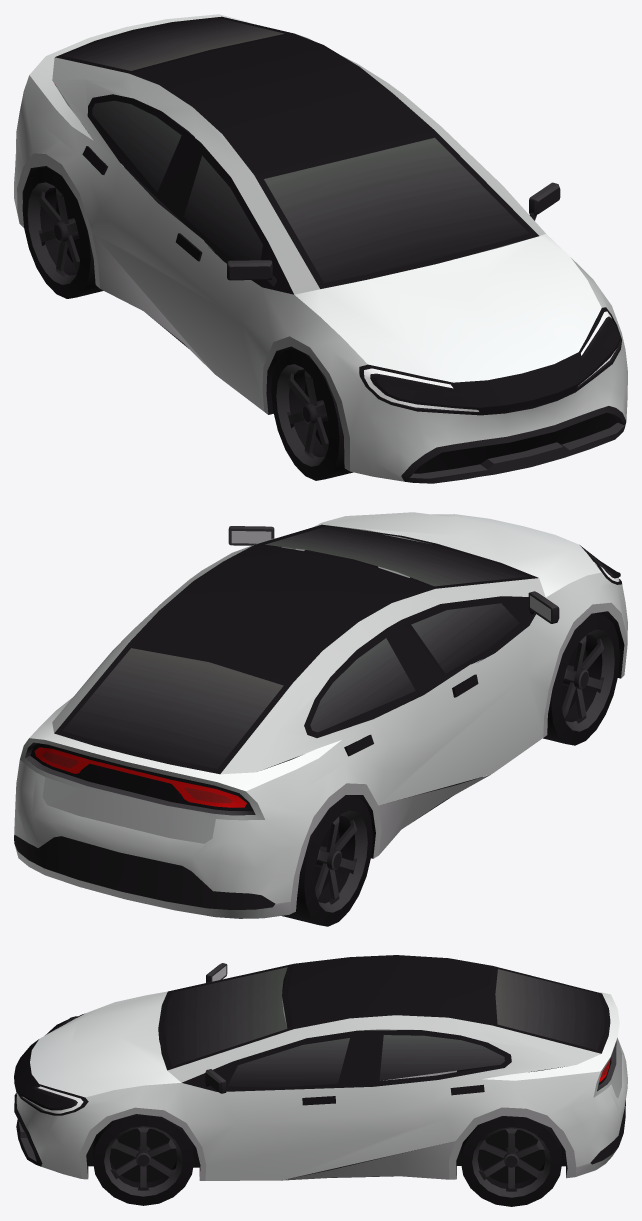
Rendered from Car2.glb.
3 renders of one model, top to bottom at view 1: azimuth 30°, elevation 25°; view 2: azimuth 150°, elevation 25°; view 3: azimuth 270°, elevation 25°, orthographic. The views are drawn at different scales.
Visible parts, largest first — view 1: unityexport_ColorVar1_Material_0_3.003; view 2: unityexport_ColorVar1_Material_0_3.003; view 3: unityexport_ColorVar1_Material_0_3.003.
Part boxes in pixels (bbox=[...]): unityexport_ColorVar1_Material_0_3.003: bbox=[14, 14, 627, 483]; unityexport_ColorVar1_Material_0_3.003: bbox=[14, 512, 627, 926]; unityexport_ColorVar1_Material_0_3.003: bbox=[14, 955, 627, 1206].
Size of the model in its own units: 21.17 by 14.19 by 45.92.
2 materials, 2 textured.
